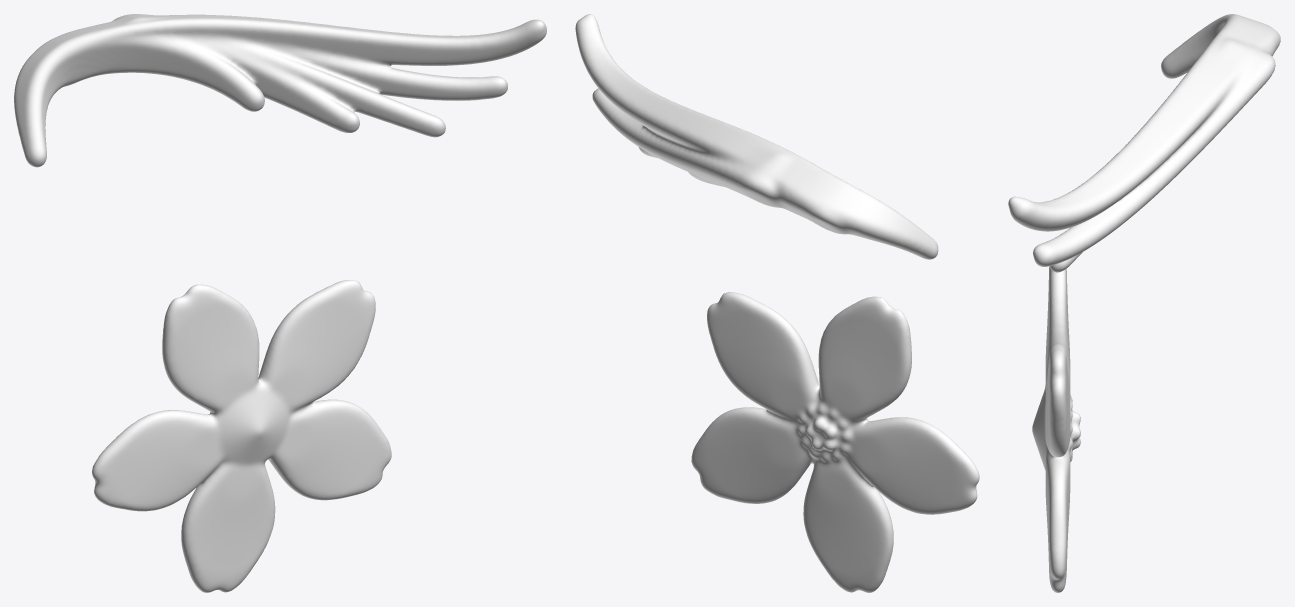
File: announcement right flourishes v0.2.glb
3 views of the same model, side by side, from view 1: azimuth 30°, elevation 25°; view 2: azimuth 150°, elevation 25°; view 3: azimuth 270°, elevation 25° (orthographic). The views are drawn at different scales.
Parts seen in each view (by area): view 1: Right Side; view 2: Right Side; view 3: Right Side.
Part boxes in pixels (box(x1,y1,x2,y2)): Right Side: box(14, 14, 546, 592); Right Side: box(575, 14, 979, 592); Right Side: box(1008, 14, 1280, 592).
Bounding box in the file's own units: 95.08 × 105 × 47.58.
Materials: 1 (1 with a texture image).
